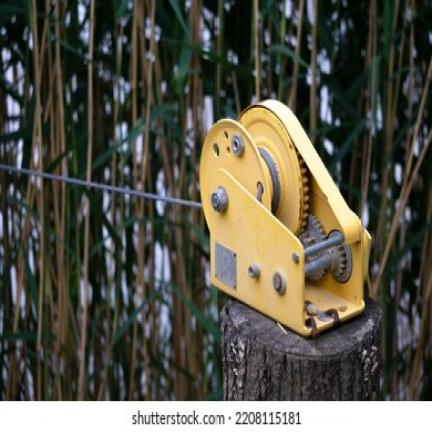besi_tidak_karat: (212, 130, 301, 328)
